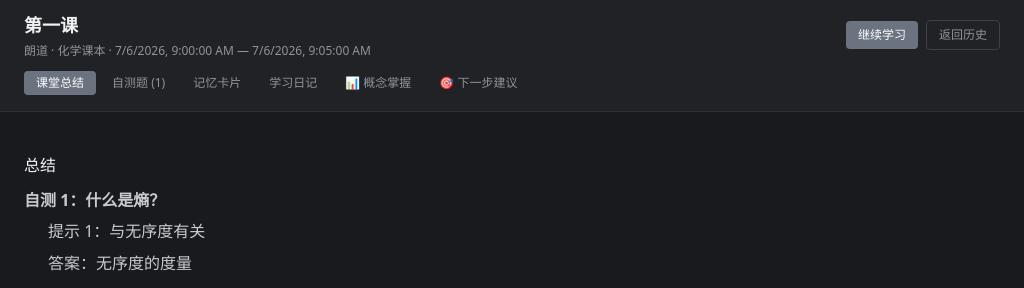
Test case: ReviewView › opens on the summary and switches to the diary tab
Expected: the text "自测 1：什么是熵？" is shown, [24,189,165,211]
Click the button "学习日记".
click(293, 83)  # box [257,71,329,95]
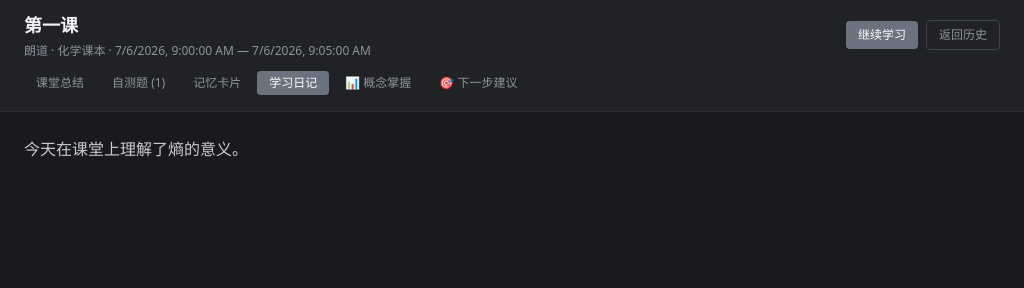
Result: the text "今天在课堂上理解了熵的意义。" is shown at [24,138,248,160]
